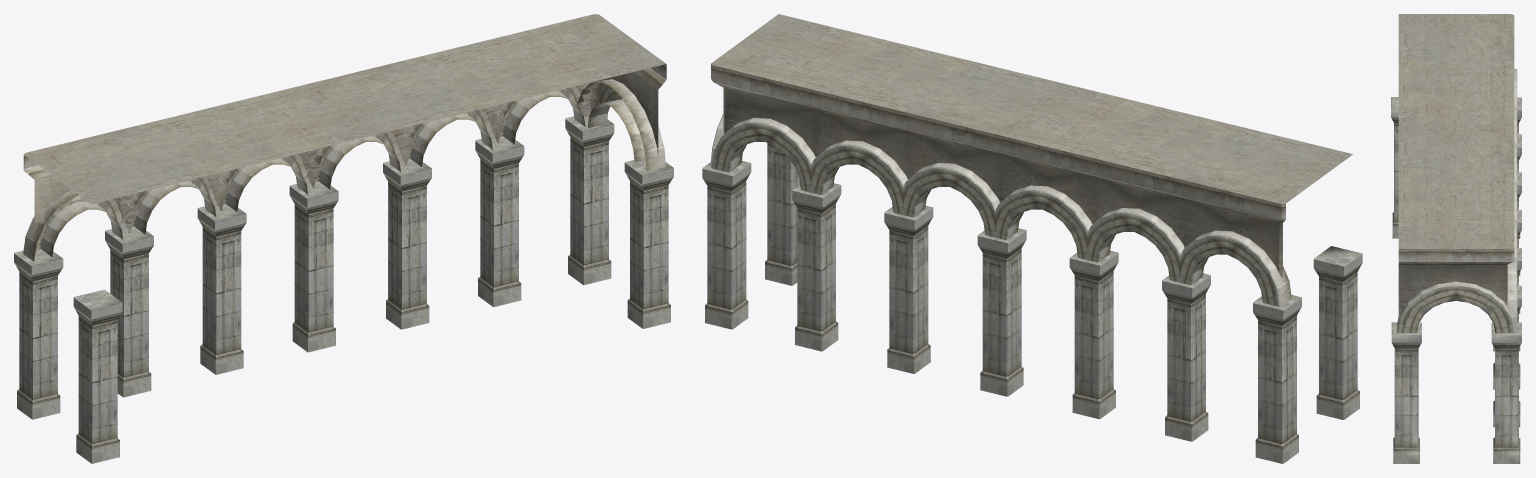
File: bg_atm_aborder_abbeydeco01_sm_jjy.FBX
The picture shows the model from 3 angles, left to right: view 1: azimuth 30°, elevation 25°; view 2: azimuth 150°, elevation 25°; view 3: azimuth 270°, elevation 25°; orthographic projection. The views are drawn at different scales.
Visible parts, largest first — view 1: bg_atm_aborder_abbeydeco01_sm_jjy; view 2: bg_atm_aborder_abbeydeco01_sm_jjy; view 3: bg_atm_aborder_abbeydeco01_sm_jjy.
Part boxes in pixels (x1=…): bg_atm_aborder_abbeydeco01_sm_jjy: x1=14, y1=14, x2=673, y2=463; bg_atm_aborder_abbeydeco01_sm_jjy: x1=702, y1=14, x2=1362, y2=463; bg_atm_aborder_abbeydeco01_sm_jjy: x1=1391, y1=14, x2=1521, y2=463.
Bounding box in the file's own units: 602 × 253 × 140.
